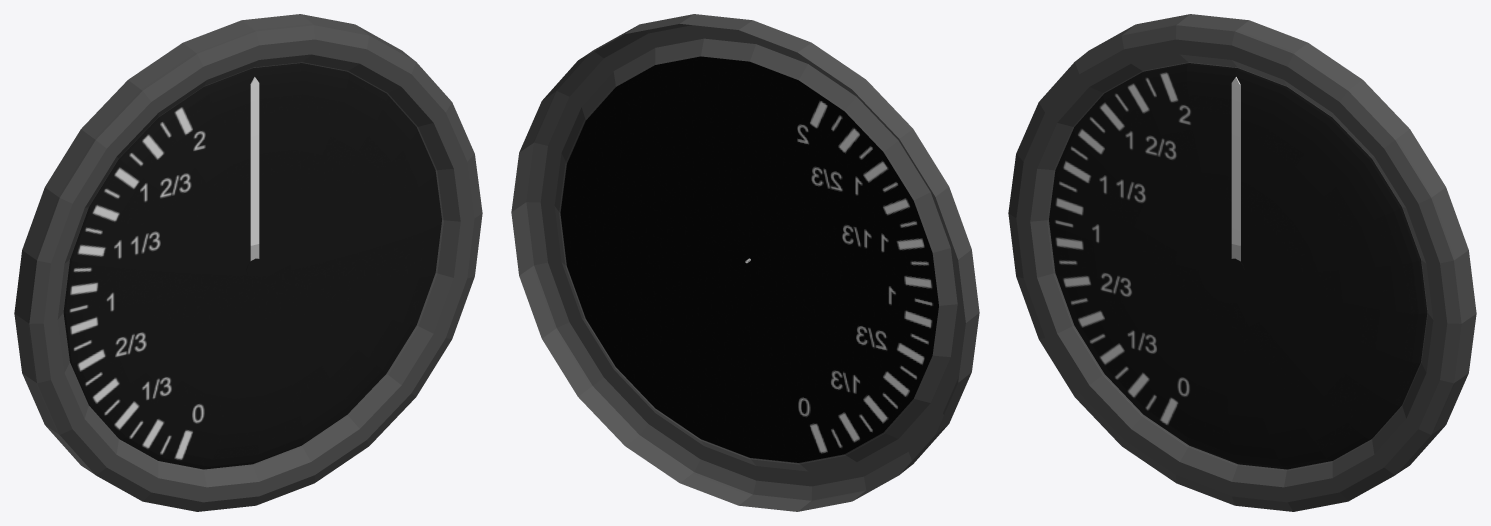
The model's file is Gauge_ThirdsArc.obj.
3 renders of one model, left to right at view 1: azimuth 30°, elevation 25°; view 2: azimuth 150°, elevation 25°; view 3: azimuth 330°, elevation 25°, orthographic.
Visible parts, largest first — view 1: Face, Rim, NeedleMain; view 2: Face, Rim; view 3: Face, Rim, NeedleMain.
Part boxes in pixels (left/top/right/bottom): Face: left=63, top=63, right=441, bottom=469; Rim: left=14, top=14, right=482, bottom=511; NeedleMain: left=250, top=77, right=259, bottom=245; Face: left=560, top=56, right=938, bottom=462; Rim: left=511, top=14, right=979, bottom=511; Face: left=1049, top=63, right=1427, bottom=469; Rim: left=1008, top=14, right=1476, bottom=511; NeedleMain: left=1231, top=77, right=1240, bottom=245.
Bounding box in the file's own units: 0.0822 × 0.0822 × 0.00794.
